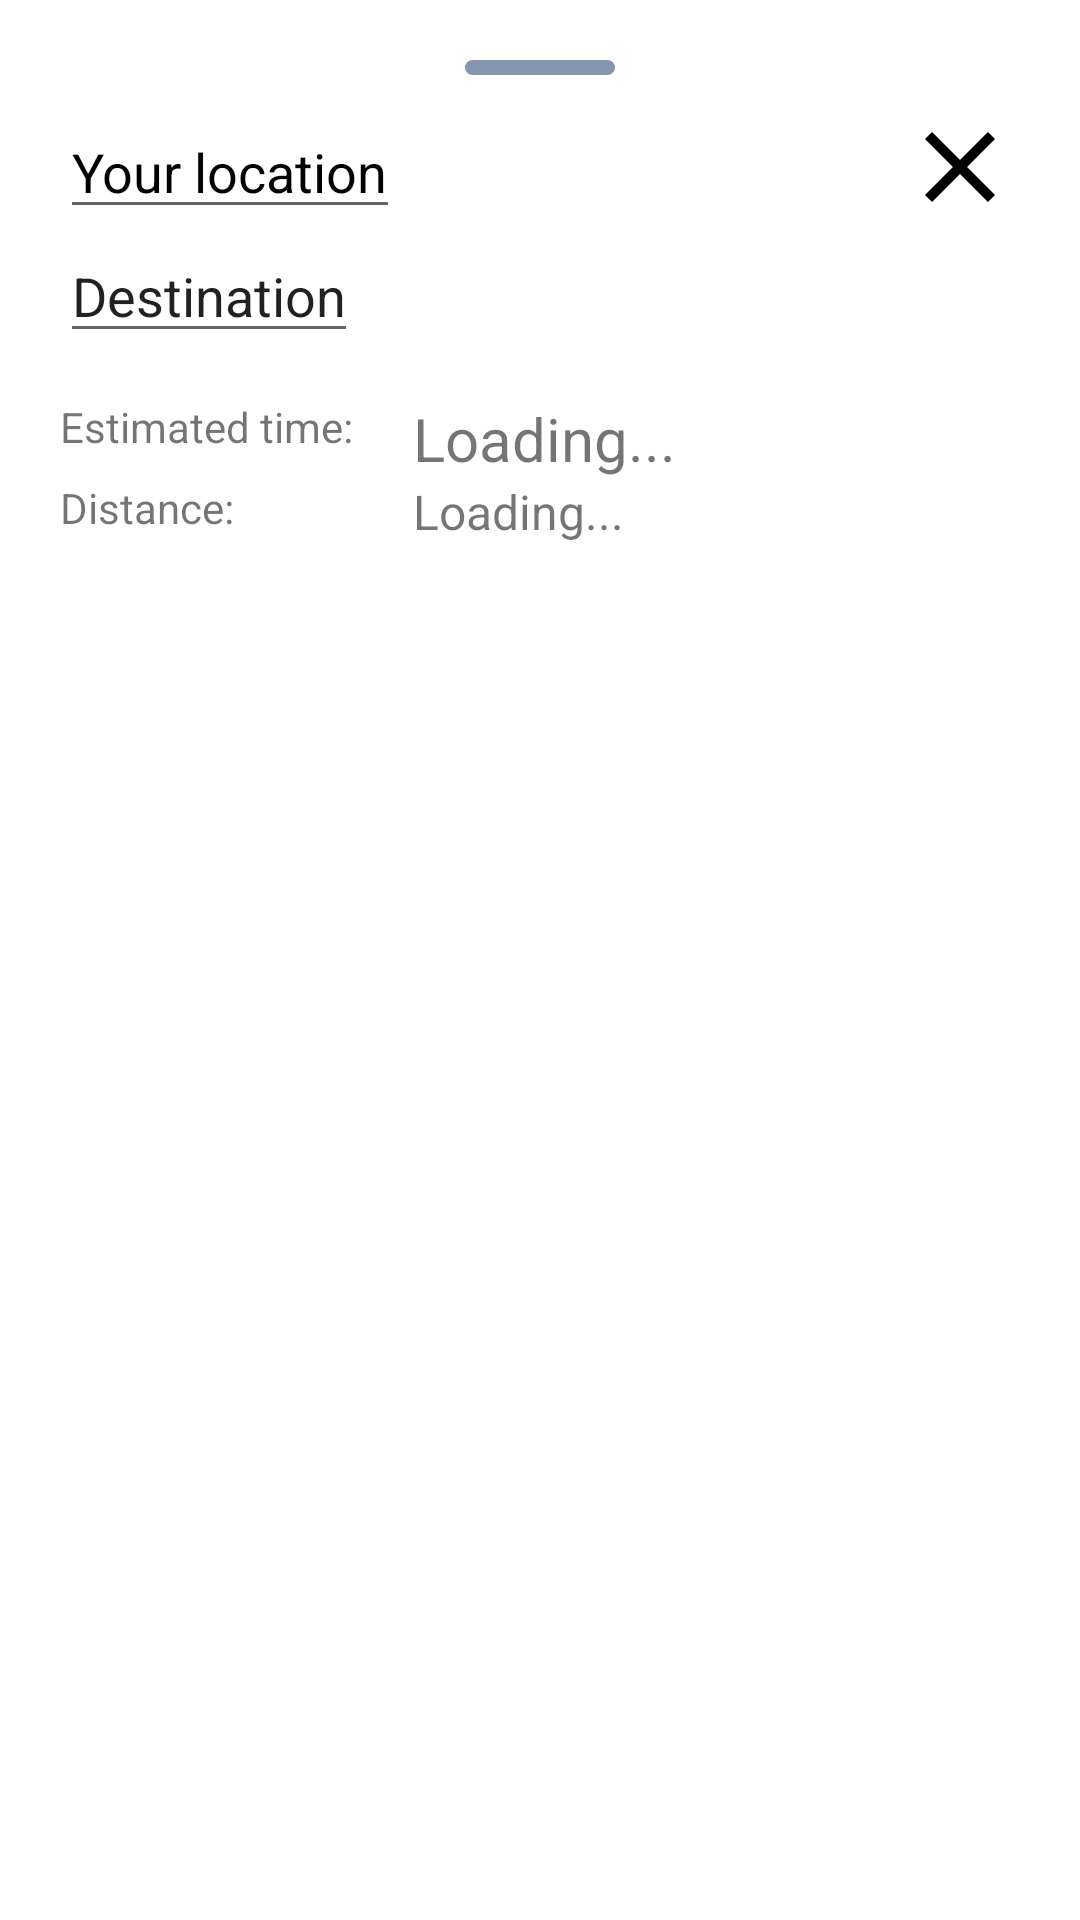

Screen size 1080px×1920px. Icon name, then its center in pixels as (x=x, y=y):
close: (x=960, y=167)
